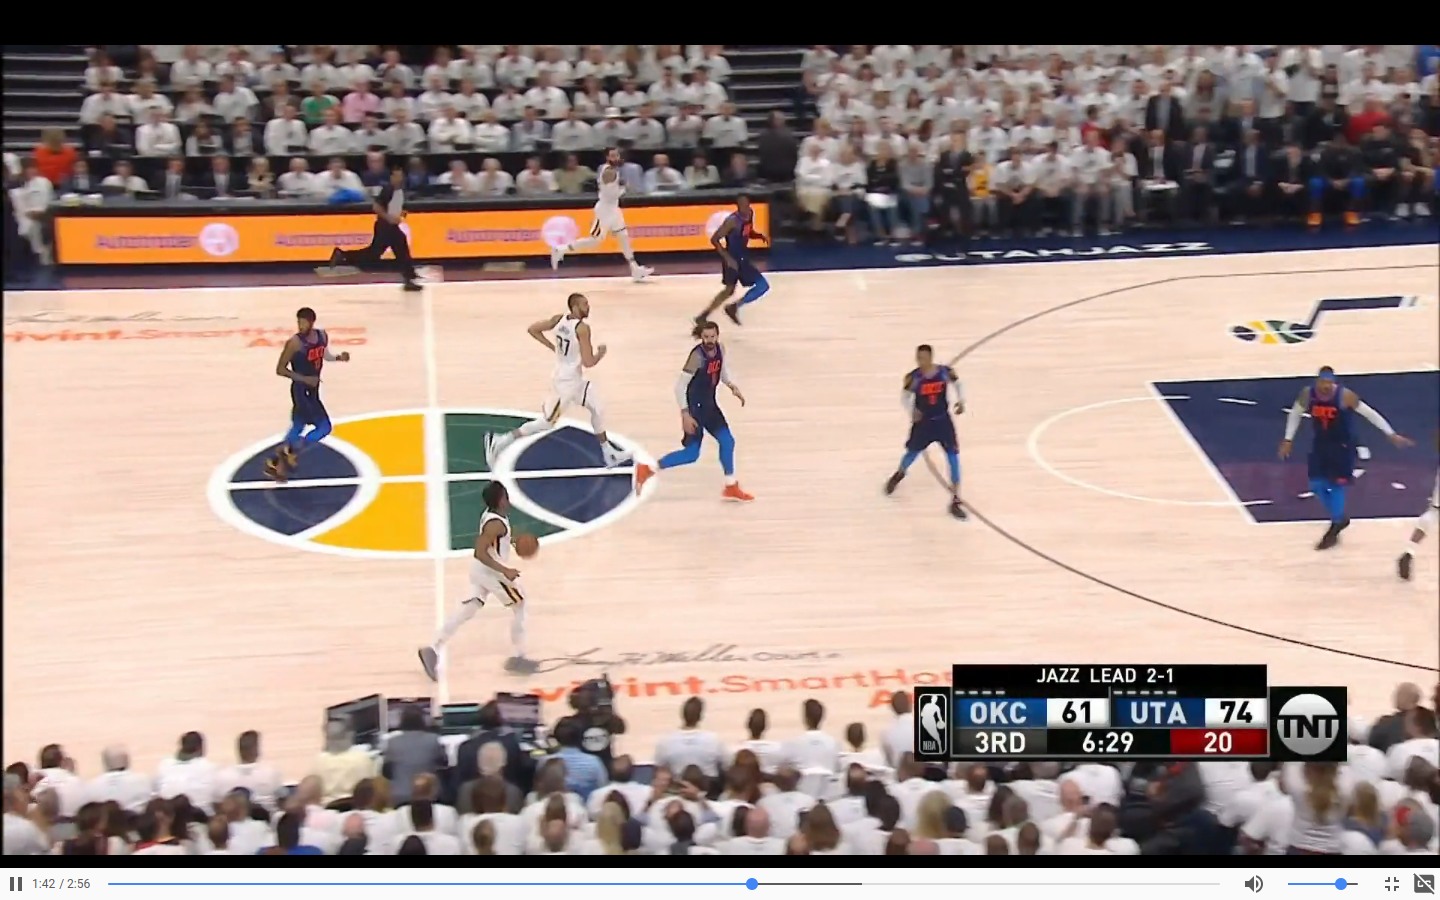basketball: (510, 528, 541, 560)
basketball player: (1275, 362, 1401, 566), (484, 294, 630, 466), (636, 323, 764, 502), (419, 482, 525, 685), (265, 302, 356, 486), (547, 145, 667, 280), (888, 342, 967, 520), (693, 192, 772, 332)
referee: (333, 171, 421, 292)
